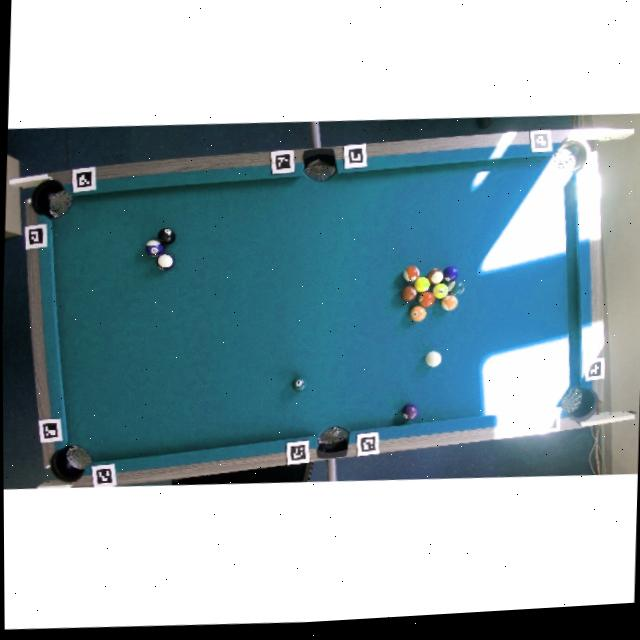cue ball: (424, 349, 442, 368)
other: (156, 226, 176, 246), (144, 238, 164, 258), (290, 374, 309, 393), (402, 263, 421, 282), (446, 278, 465, 297), (155, 252, 174, 271), (401, 402, 419, 421), (413, 274, 431, 293), (426, 267, 444, 286), (417, 290, 435, 308), (431, 282, 448, 300), (400, 284, 417, 302), (441, 294, 458, 312), (442, 265, 459, 283), (409, 304, 426, 322)
